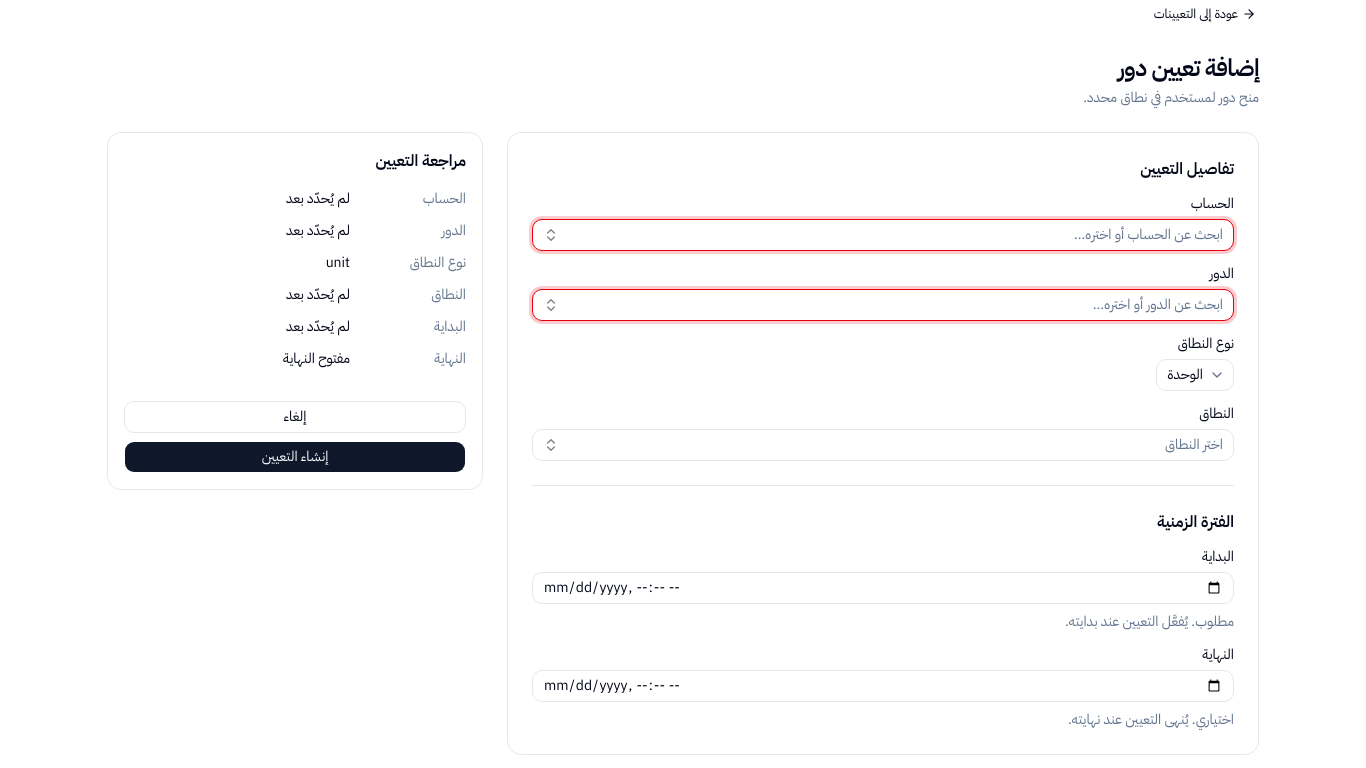
Scenario: cursor-paginated creation pickers › wires the assignment role picker cursor into listRolesWithCapabilities
The image size is (1366, 768).
Click the button with aria-label "قائمة الأدوار" at (1158, 304), box left=532, top=289, right=1234, bottom=321
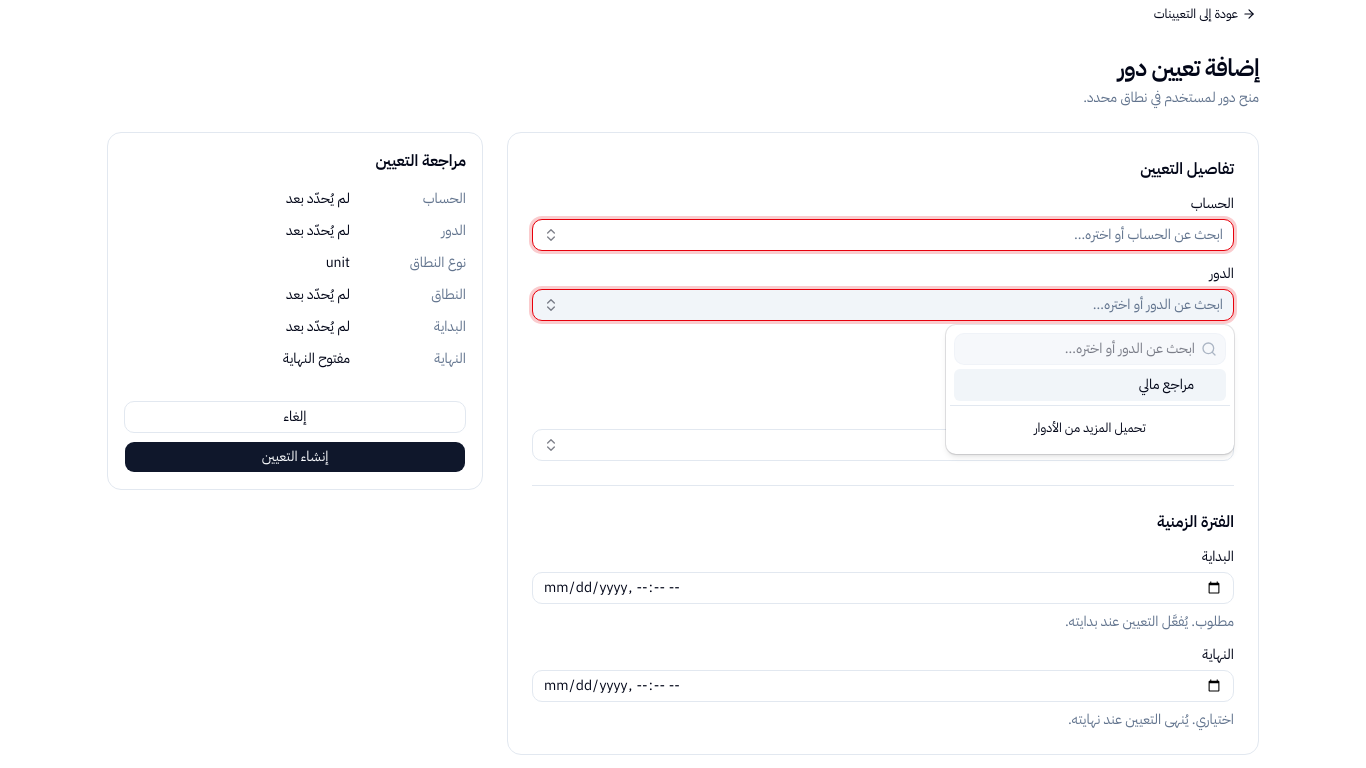
Expected: the option "مراجع مالي" is shown, left=954, top=369, right=1226, bottom=401
// Load more forwards the returned cursor to the enriched role loader.
Click the button "تحميل المزيد من الأدوار" at (1090, 428), box left=958, top=414, right=1222, bottom=442
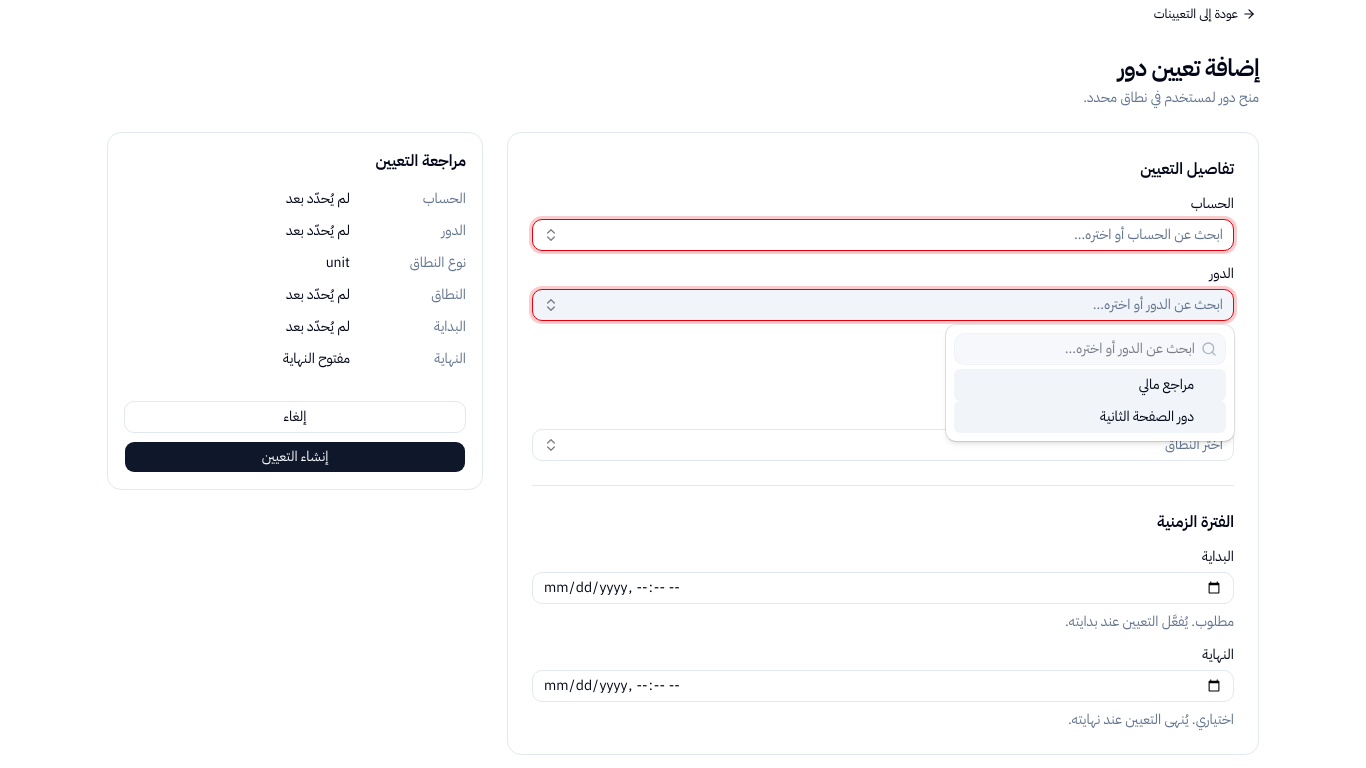
Expected: the option "دور الصفحة الثانية" is shown, left=954, top=401, right=1226, bottom=433
